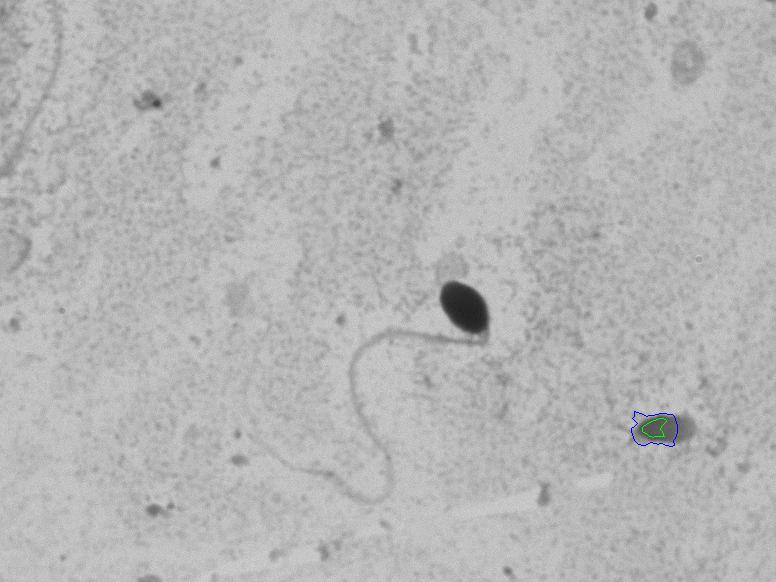Abnormal: (224, 263, 522, 535)
